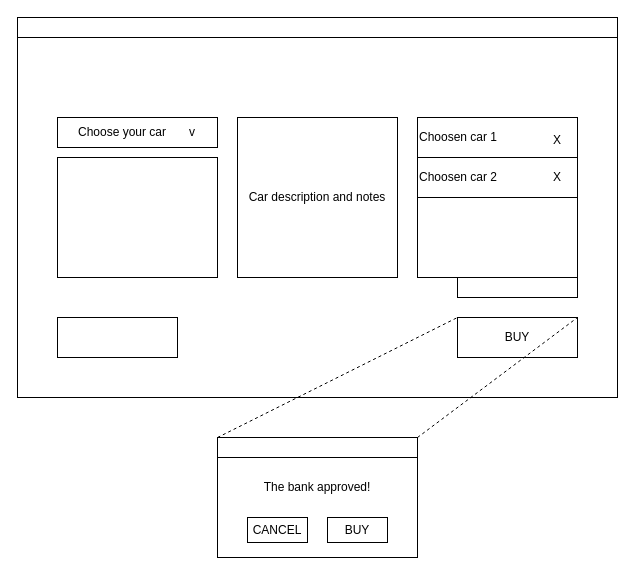
Some shapes in this 635 by 575 pixel diagram are drawn without their labels. Each missing label, with the centre of its shape:
ADD TO CART: the point at 117,337
Car image preview: the point at 137,217
Total price is x: the point at 517,287
